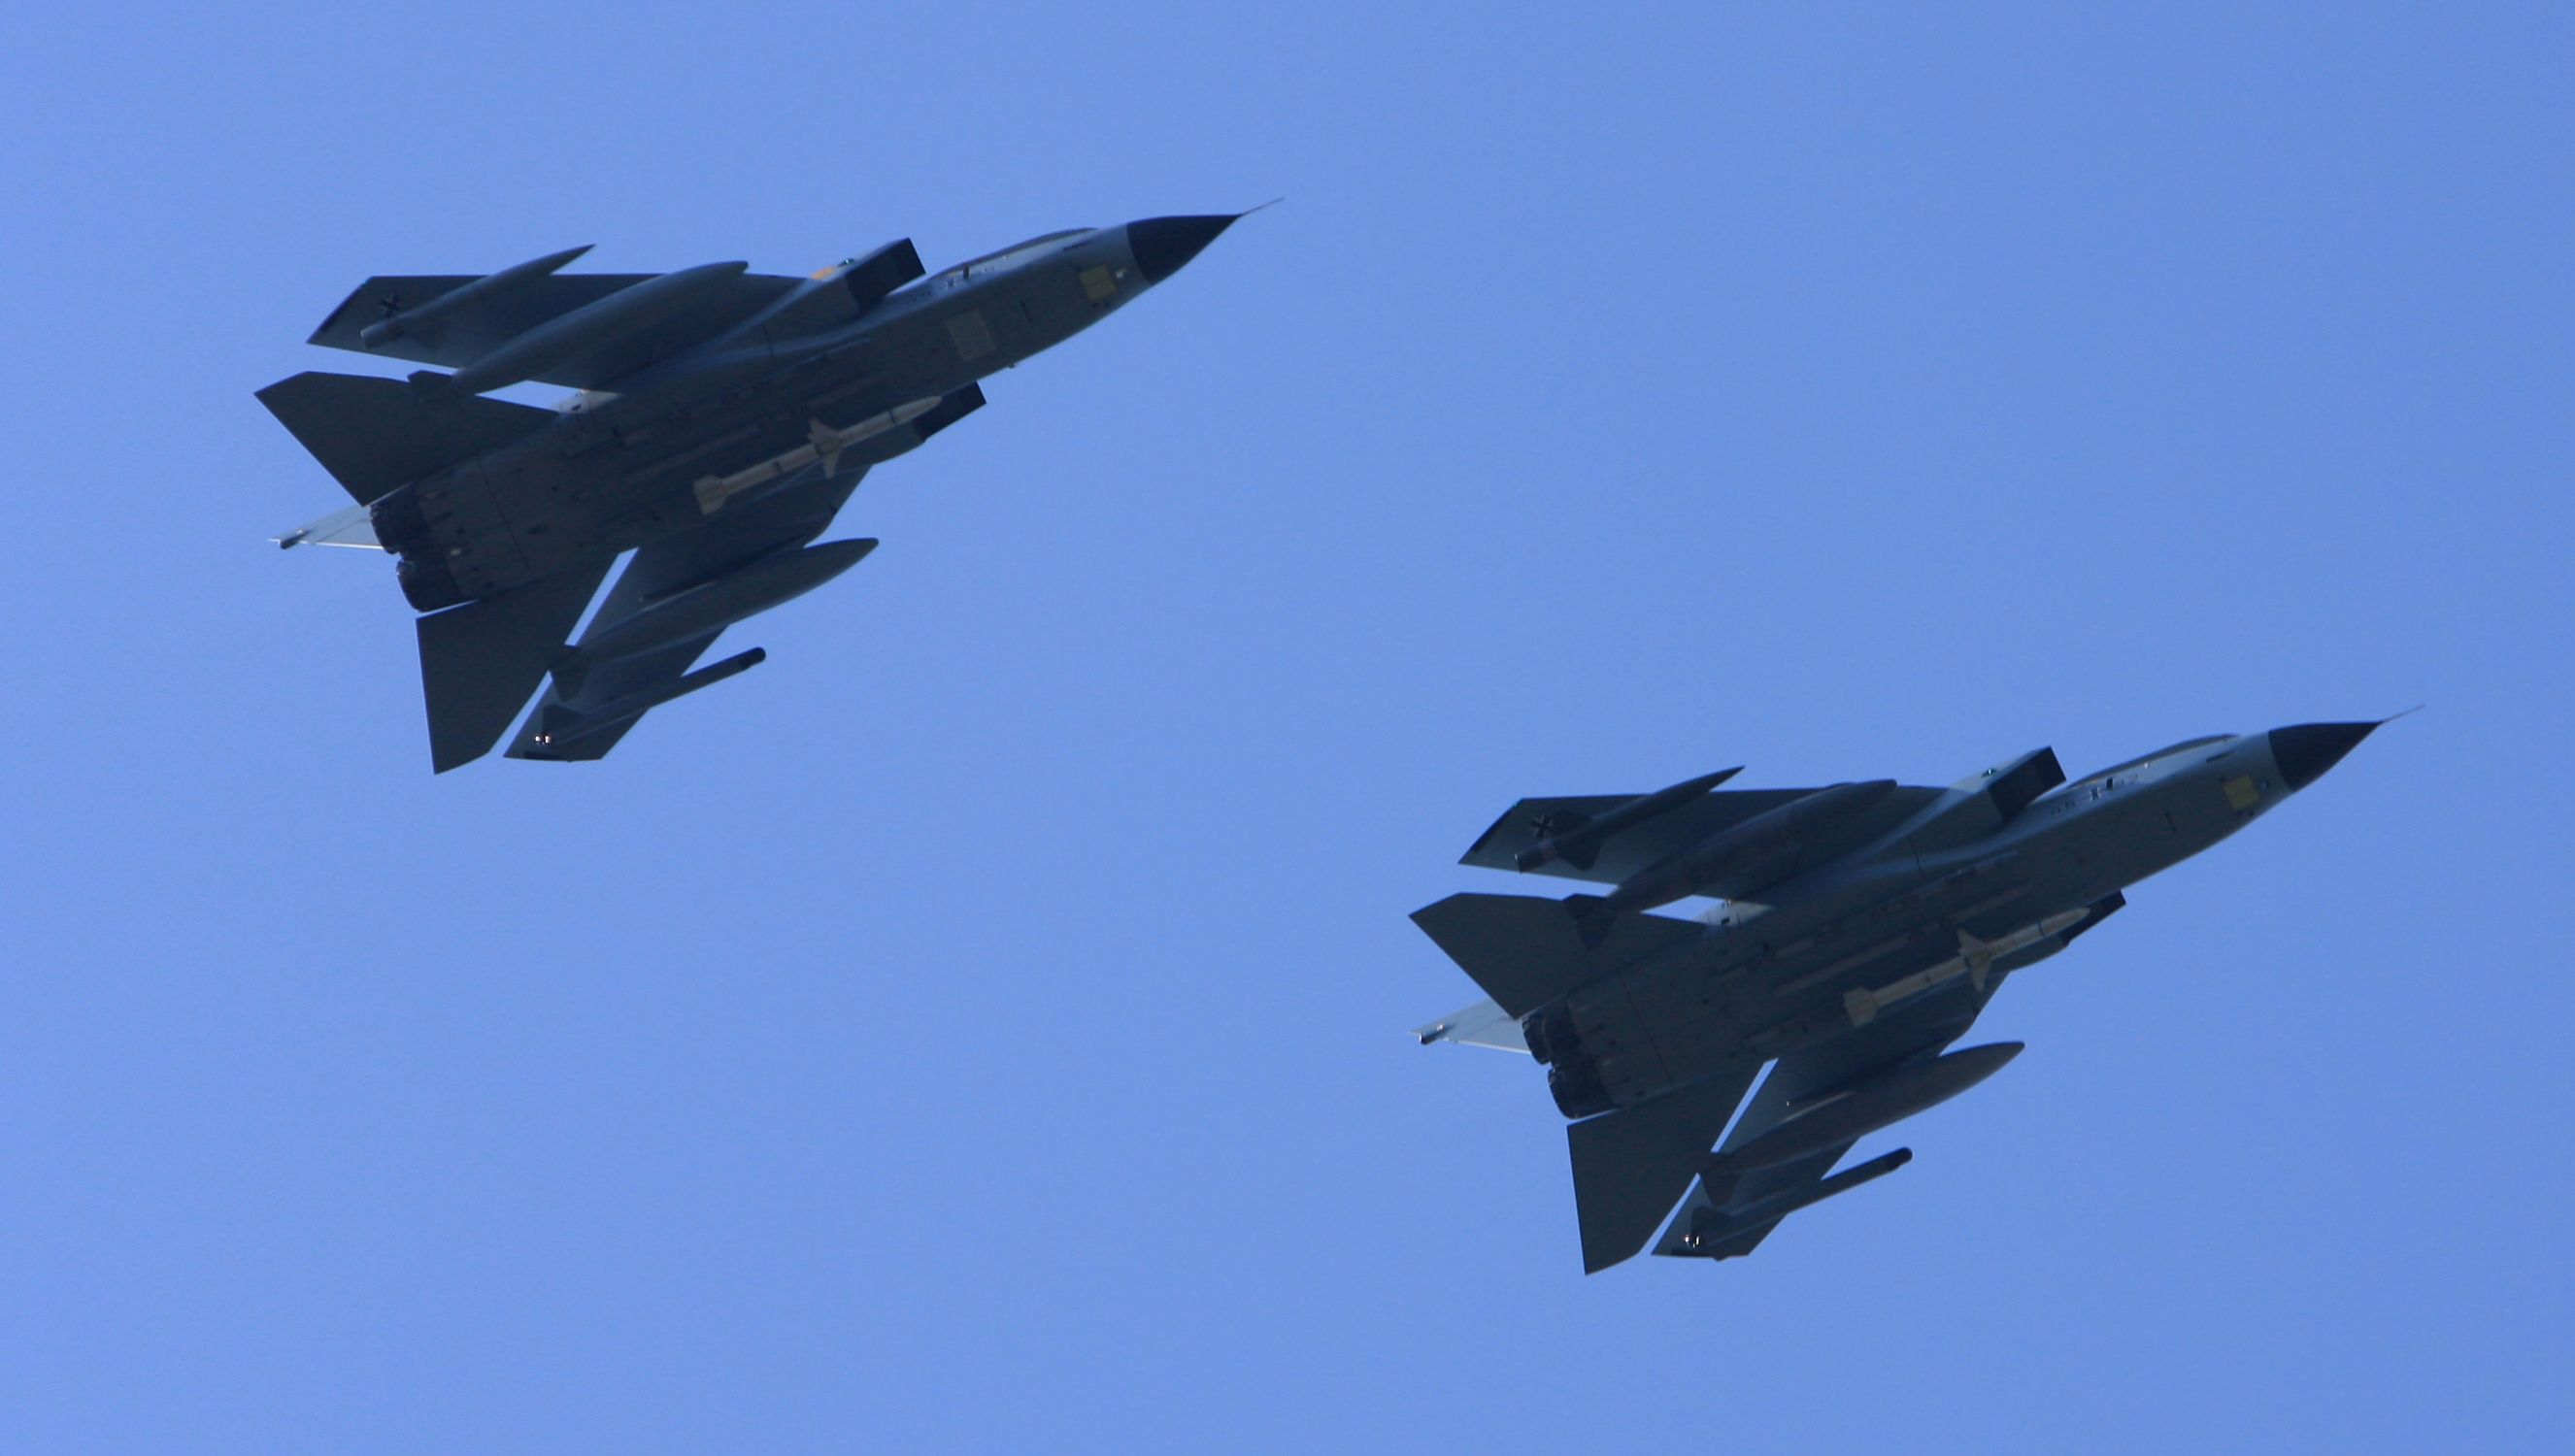Tornado: (251, 198, 1284, 776), (1404, 703, 2426, 1278)
